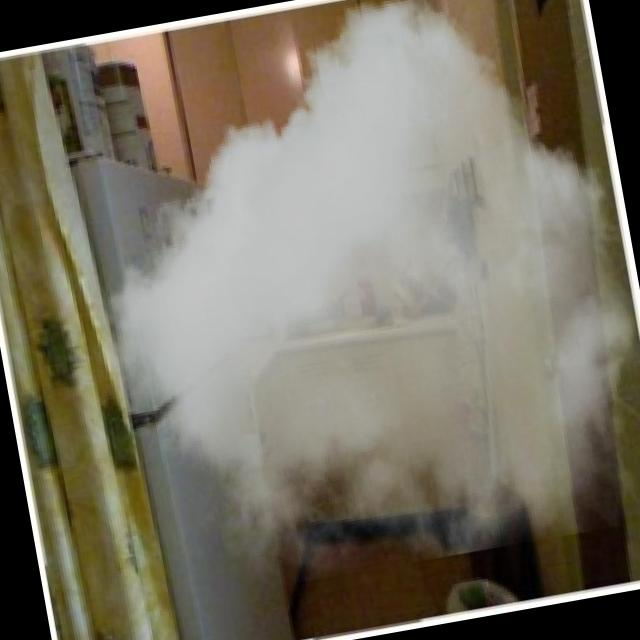Smoke: (62, 0, 640, 607)
